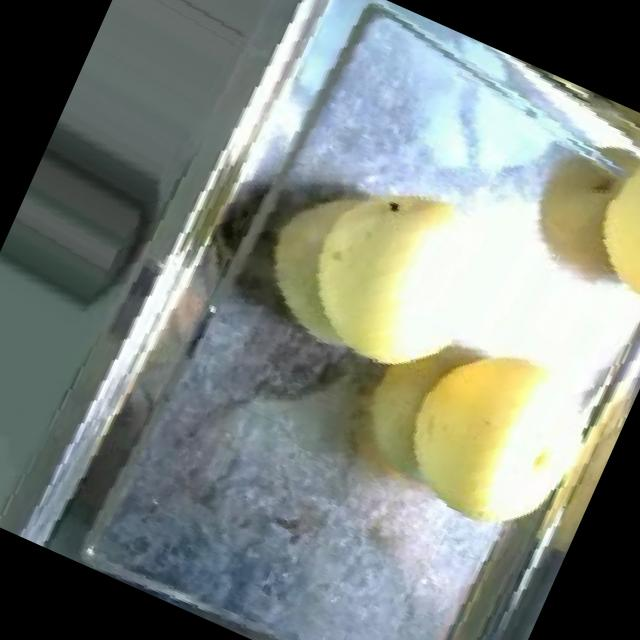Fruit: (232, 123, 496, 394), (372, 308, 594, 552), (550, 106, 640, 329)
